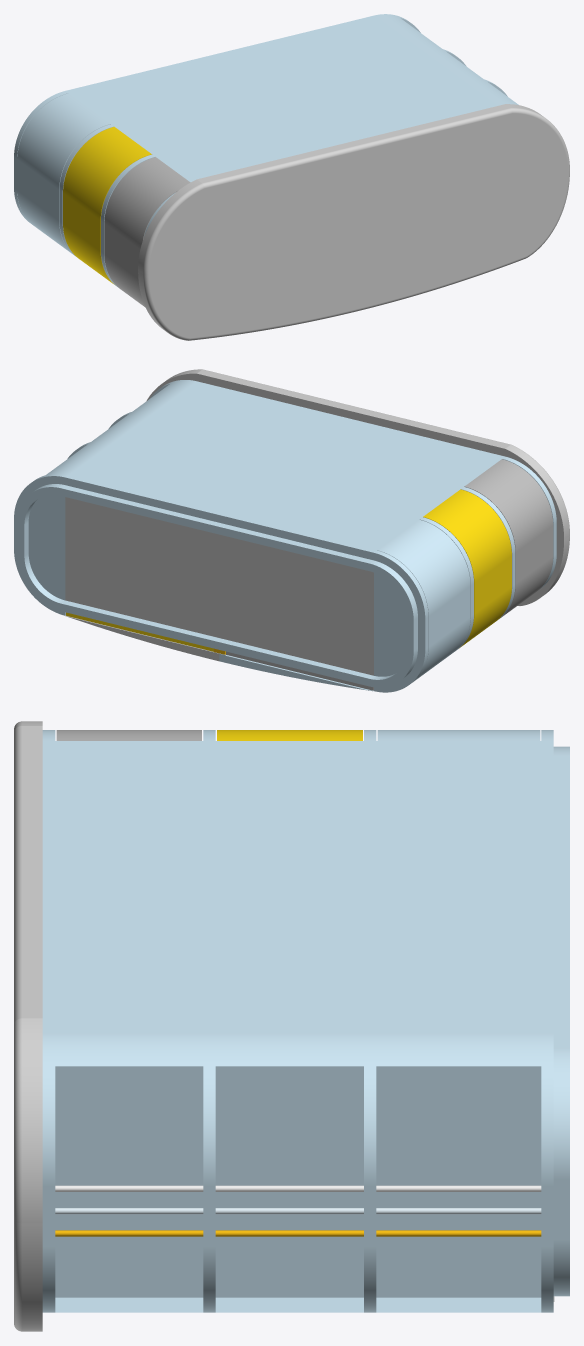
File: Credenza4.glb
3 views of the same model, one above another, from view 1: azimuth 30°, elevation 25°; view 2: azimuth 150°, elevation 25°; view 3: azimuth 270°, elevation 25° (orthographic). The views are drawn at different scales.
Visible parts, largest first — view 1: Top Surface, Cabinet Body, Left Bottom Door, Left Middle Door, Left Top Door; view 2: Cabinet Body, Cabinet Bottom, Footing, Left Bottom Door, Top Surface, Left Top Door, Left Middle Door, Right Door Face, Left Door Face, Right Door, Left Door; view 3: Cabinet Body, Top Surface, Footing, Pole 3, Pole 1, Pole 2, Left Bottom Door, Left Top Door, Left Middle Door.
Part boxes in pixels (box(x1,y1,x2,y2)): Top Surface: box(138, 104, 569, 340); Cabinet Body: box(14, 14, 518, 286); Left Bottom Door: box(17, 93, 110, 254); Left Middle Door: box(63, 126, 151, 284); Left Top Door: box(104, 157, 190, 307); Cabinet Body: box(14, 380, 556, 692); Cabinet Bottom: box(65, 497, 373, 675); Footing: box(17, 484, 417, 687); Left Bottom Door: box(377, 519, 470, 680); Top Surface: box(146, 369, 569, 605); Left Top Door: box(464, 459, 553, 617); Left Middle Door: box(423, 489, 511, 648); Right Door Face: box(65, 615, 219, 661); Left Door Face: box(219, 653, 373, 691); Right Door: box(66, 612, 213, 651); Left Door: box(226, 651, 373, 690); Cabinet Body: box(42, 730, 553, 1312); Top Surface: box(14, 721, 42, 1331); Footing: box(553, 746, 569, 1296); Pole 3: box(55, 1230, 541, 1236); Pole 1: box(55, 1185, 541, 1191); Pole 2: box(55, 1208, 541, 1214); Left Bottom Door: box(377, 730, 540, 740); Left Top Door: box(56, 730, 201, 740); Left Middle Door: box(217, 730, 362, 740).
Size of the model in its own units: 1.47 by 0.5466 by 0.8572.
